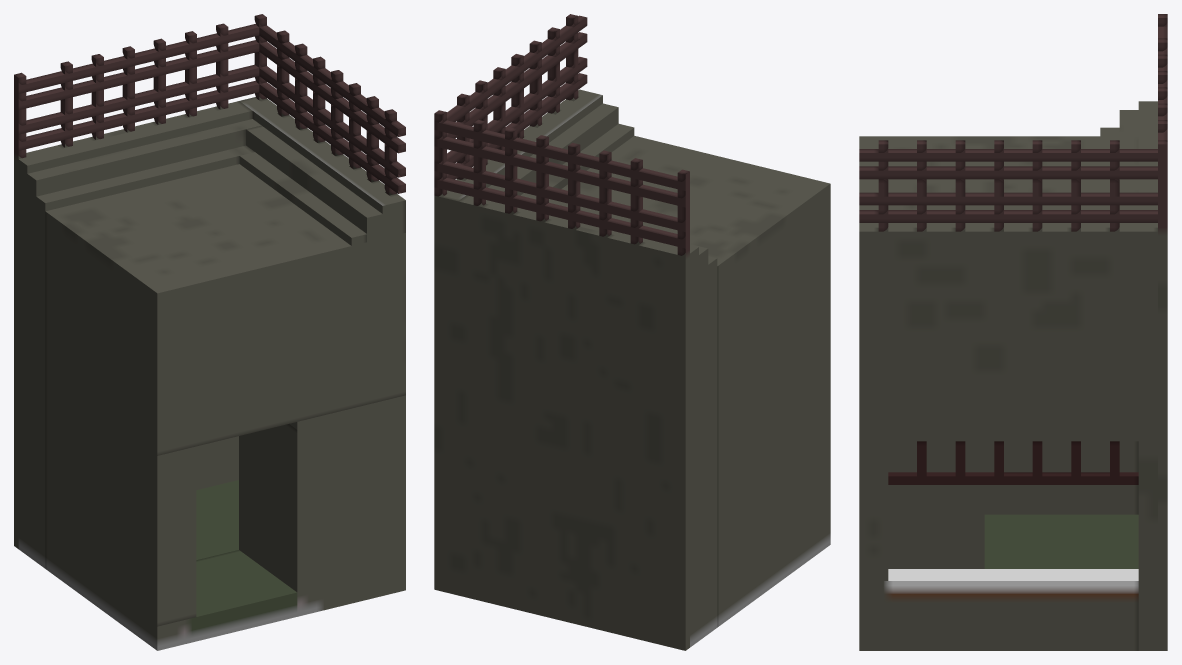
File: res_front_okno_2.dae
The picture shows the model from 3 angles, left to right: view 1: azimuth 30°, elevation 25°; view 2: azimuth 150°, elevation 25°; view 3: azimuth 270°, elevation 25°; orthographic projection. The views are drawn at different scales.
Visible parts, largest first — view 1: Content; view 2: Content; view 3: Content.
Boxes of the visible parts, x1,y1,x2,y2 form: Content: (14, 14, 405, 650); Content: (434, 14, 830, 650); Content: (859, 14, 1167, 650).
Size of the model in its own units: 32 by 58 by 32.
1 material, 1 textured.
